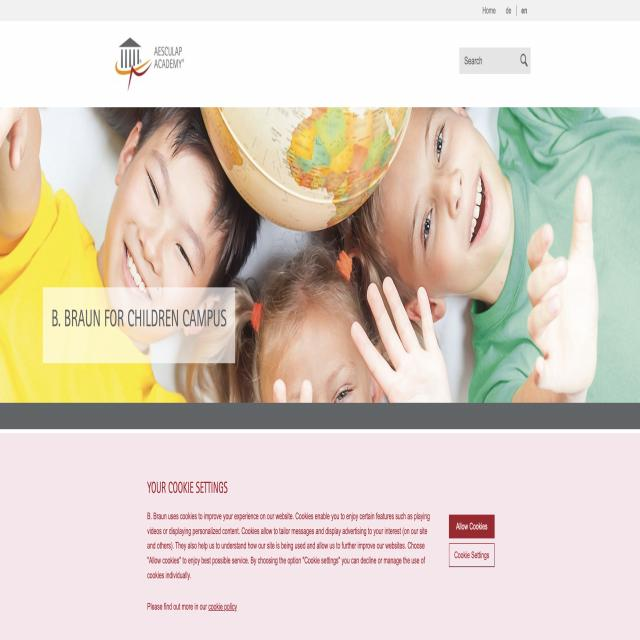Logo: (105, 31, 199, 95)
